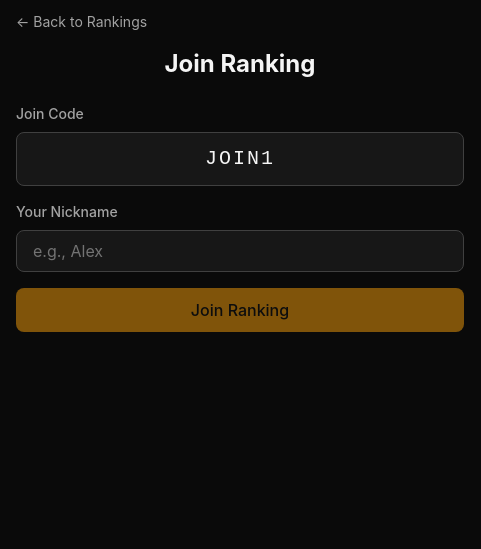
it: JoinVotePageClient › shows private-space guidance when join requires space membership
This screenshot has width=481, height=549.
Type "Nick" into the field with placeholder "e.g., Alex" at (240, 251), box top-left (16, 230), bottom-right (464, 272)
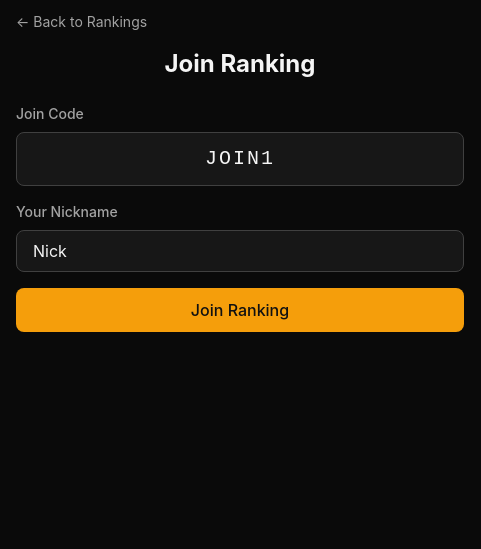
Click the button "Join Ranking" at (240, 310), box top-left (16, 288), bottom-right (464, 332)
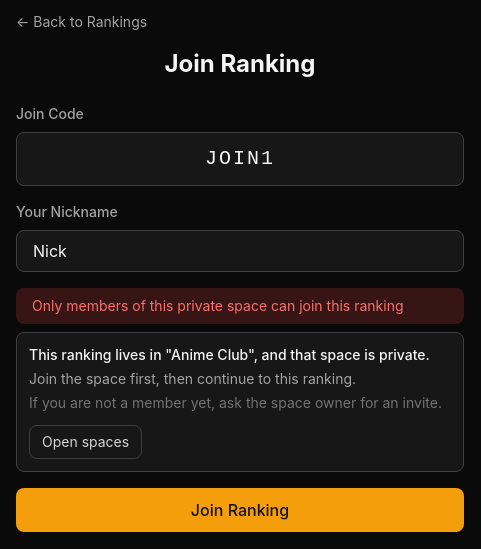
Expected: the text "This ranking lives in \"Anime Club\", and that space is private." is shown, top-left (29, 345), bottom-right (451, 365)
